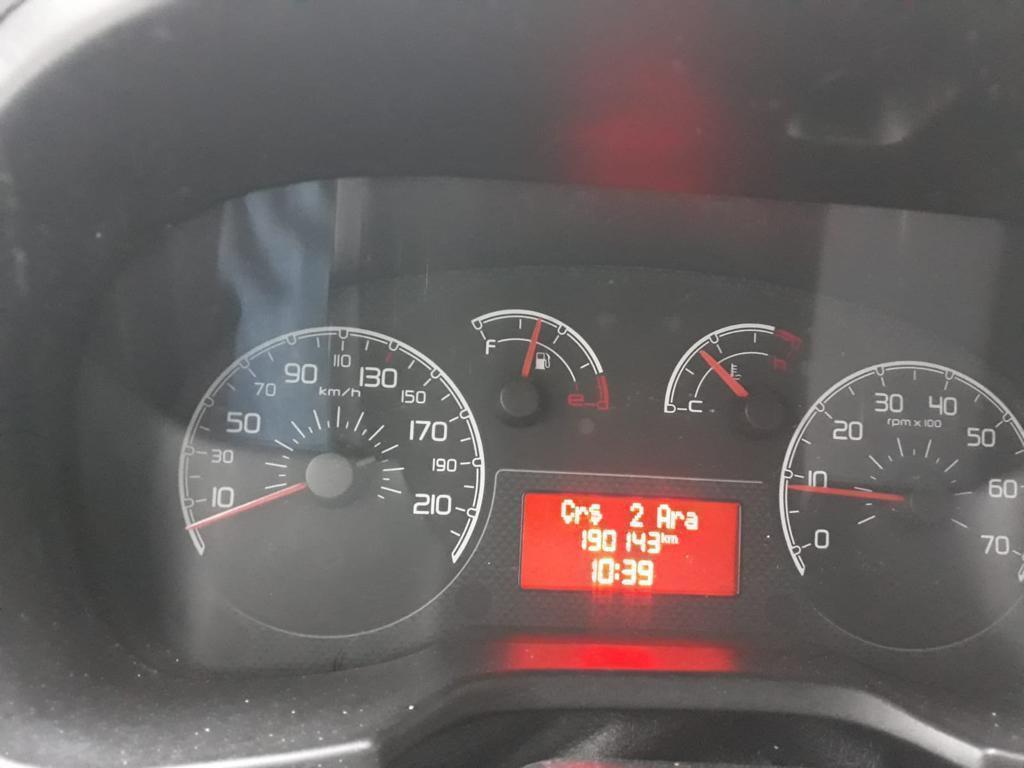0: (598, 557, 613, 584), (602, 528, 616, 552)
1: (624, 528, 632, 552), (579, 527, 587, 551), (591, 558, 597, 587)
2: (628, 500, 644, 528)
3: (622, 558, 636, 585), (647, 530, 659, 554)
4: (632, 529, 646, 552)
9: (637, 558, 653, 586), (587, 527, 601, 551)
X: (561, 497, 574, 524), (656, 503, 670, 528), (589, 502, 604, 525), (670, 510, 684, 529), (685, 510, 698, 530), (575, 505, 588, 524), (614, 561, 620, 582), (667, 534, 679, 544), (660, 531, 667, 543)
odometer: (513, 486, 748, 601)
